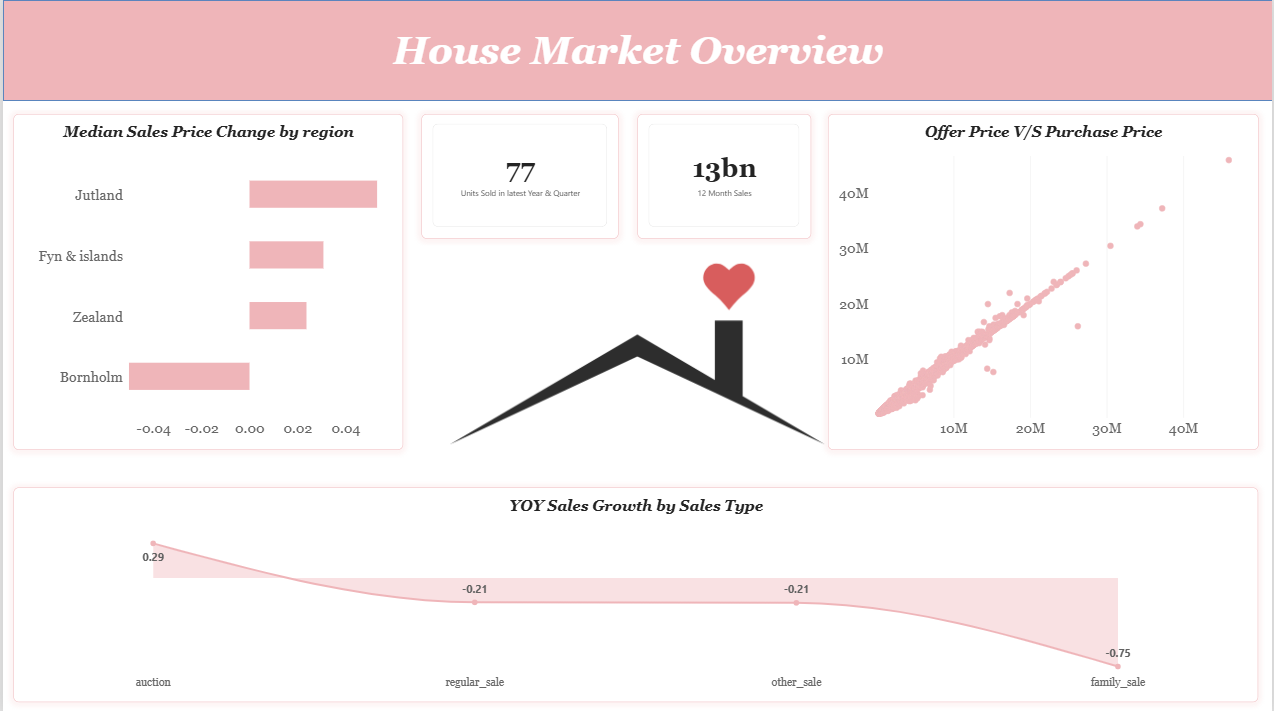

This screenshot's page, from the dashboard's own definition file:
{"tool":"powerbi","page":{"name":"House Market Overview","canvas":[1920,1080],"ordinal":0},"visuals":[{"type":"shape","box":[0,0,1920.7,152.7],"z":0},{"type":"lineChart","title":"YOY Sales Growth by Sales Type","fields":{"Category":["Housing.sales_type"],"Y":["Housing.YOY_Sales_Growth"]},"box":[16.7,737.2,1882.5,324.5],"z":1000},{"type":"scatterChart","title":"Offer Price V/S Purchase Price","fields":{"X":["Housing.Offer Price"],"Y":["Housing.purchase_price"]},"box":[1247.8,171.8,651.4,508.2],"z":2000},{"type":"barChart","fields":{"Category":["Housing.region"],"Y":["Housing.Median Sales Price Change"]},"box":[16.7,171.8,589.3,508.2],"z":3000},{"type":"cardVisual","fields":{"Data":["Housing.Units Sold in latest Year & Quarter"]},"box":[632.3,171.8,298.2,188.5],"z":4000},{"type":"cardVisual","fields":{"Data":["Housing.Last 12 Month Sales"]},"box":[959.1,171.8,262.5,188.5],"z":5000}]}

Visuals, with their boxes in screenshot pixels (x1, y1, x2, y2), scaled from the page's 1920x1080 canvas onto the 1274x711 screenshot:
shape: [0, 0, 1273, 101]
"YOY Sales Growth by Sales Type" lineChart: [11, 485, 1260, 699]
"Offer Price V/S Purchase Price" scatterChart: [828, 113, 1260, 448]
barChart - Housing.region x Housing.Median Sales Price Change: [11, 113, 402, 448]
cardVisual - Housing.Units Sold in latest Year & Quarter: [420, 113, 617, 237]
cardVisual - Housing.Last 12 Month Sales: [636, 113, 811, 237]
